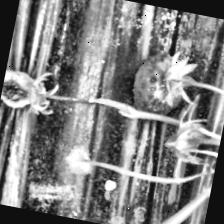Gray Mold: (0, 64, 62, 118)
